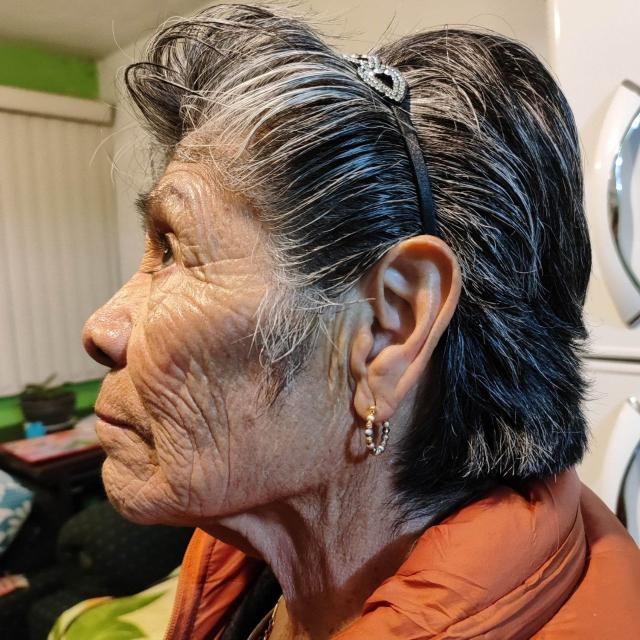ear: (351, 235, 461, 421)
